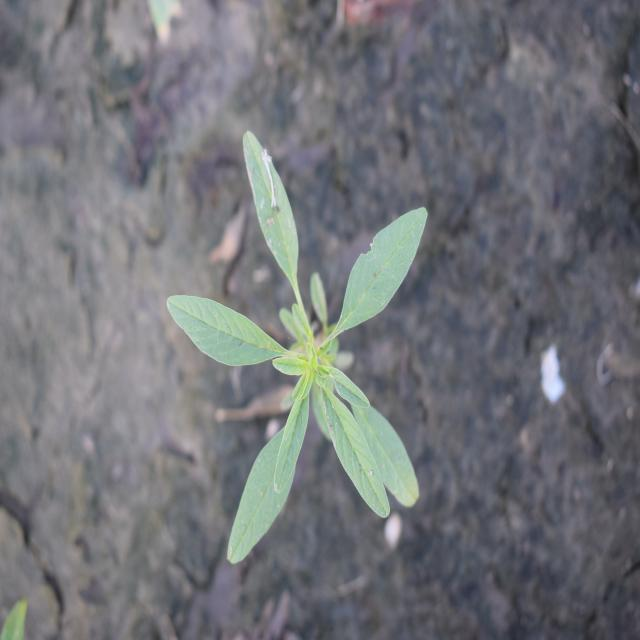Waterhemp: (164, 128, 430, 565)
